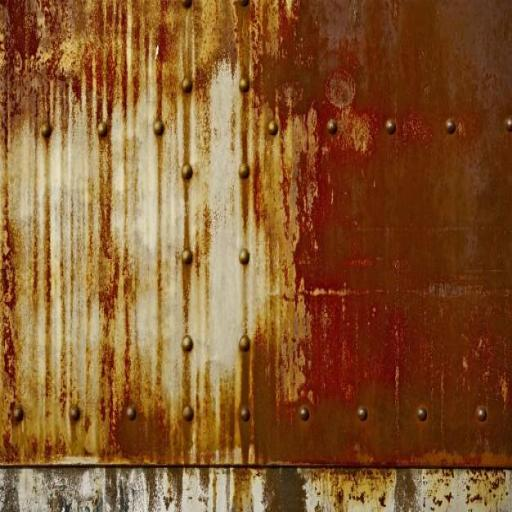segmentation: (274, 0, 511, 463), (264, 0, 366, 101), (250, 0, 298, 95), (134, 0, 183, 79), (192, 0, 227, 87), (119, 414, 164, 452), (0, 0, 12, 5)
